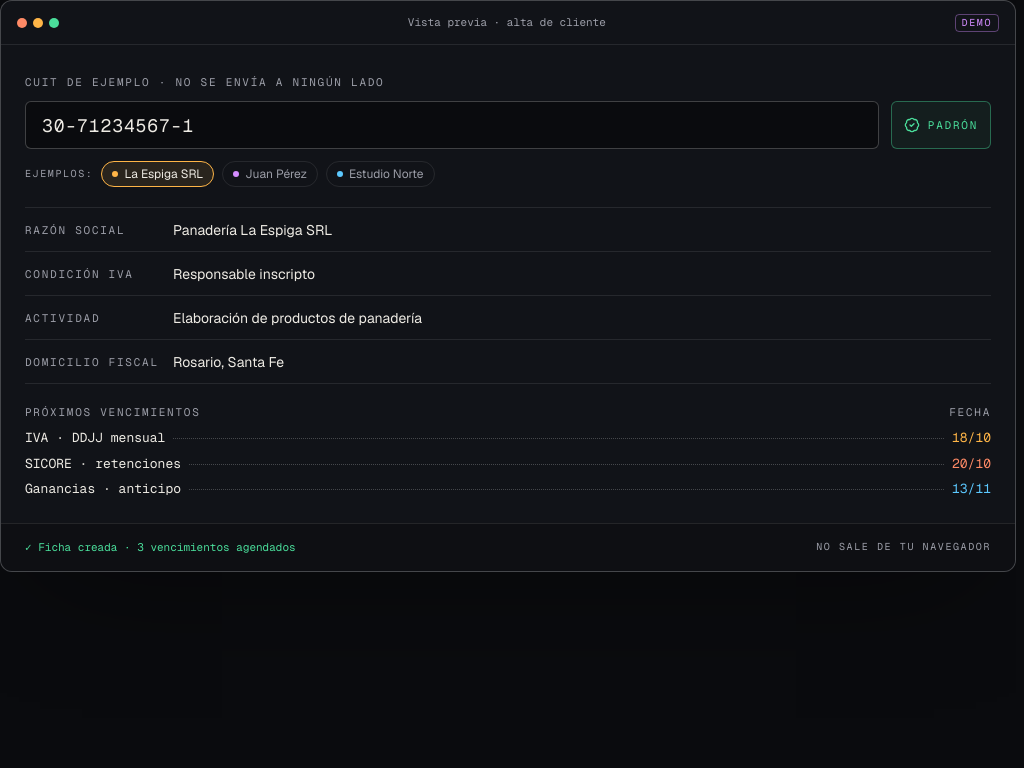
it: <CuitDemo> › accepts any valid CUIT without inventing its data
Replace the text in the field labelled "CUIT de ejemplo · no se envía a ningún lado" with "20123456794" at [452, 125], box left=25, top=101, right=879, bottom=149
Wait 1000 ms
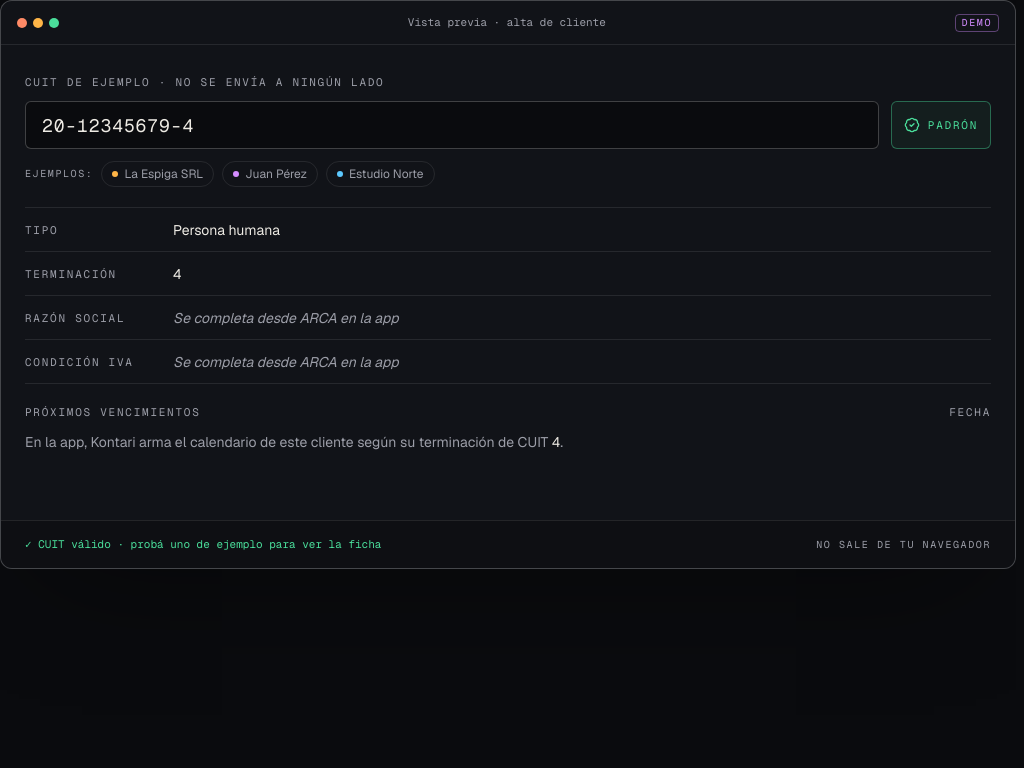
Check: the text "Se completa desde ARCA en la app" is shown 2 times, box left=173, top=308, right=398, bottom=326; left=173, top=352, right=398, bottom=370
Check: the text "Persona humana" is shown, box left=173, top=220, right=280, bottom=238
Check: the text "✓ CUIT válido · probá uno de ejemplo para ver la ficha" is shown, box left=25, top=536, right=381, bottom=553
